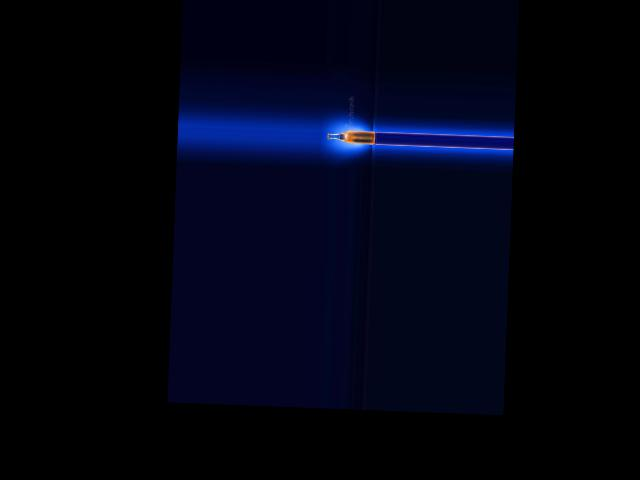beer: (327, 129, 375, 145)
